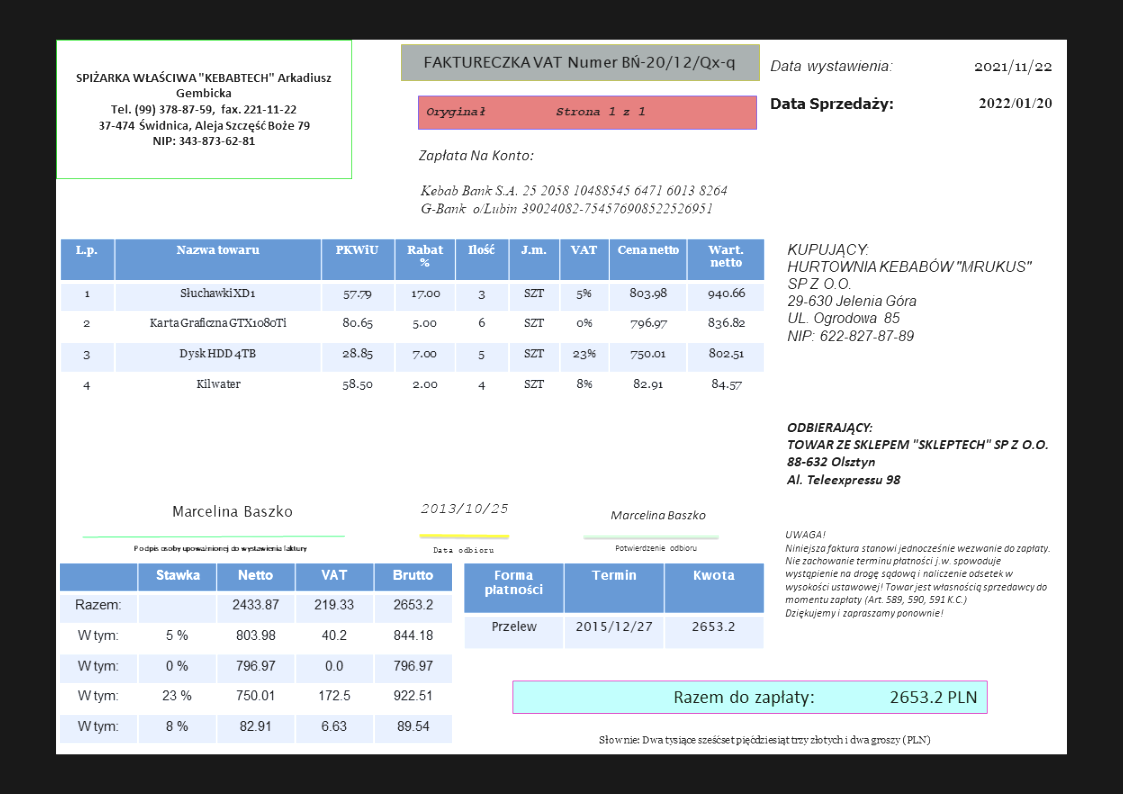Table: (59, 235, 767, 403), (58, 563, 454, 745), (462, 562, 765, 650)
TextBox: (783, 240, 1034, 345), (782, 528, 1051, 621), (72, 67, 332, 149), (783, 418, 1051, 489), (419, 180, 729, 217), (420, 52, 737, 74), (672, 686, 977, 708), (596, 731, 933, 748), (423, 103, 649, 122), (768, 94, 898, 115), (767, 56, 894, 77), (416, 145, 538, 165), (131, 543, 309, 555), (170, 503, 293, 519), (970, 57, 1055, 77), (418, 500, 512, 516), (609, 508, 708, 523), (975, 95, 1056, 112), (613, 542, 699, 554), (431, 543, 495, 555)
